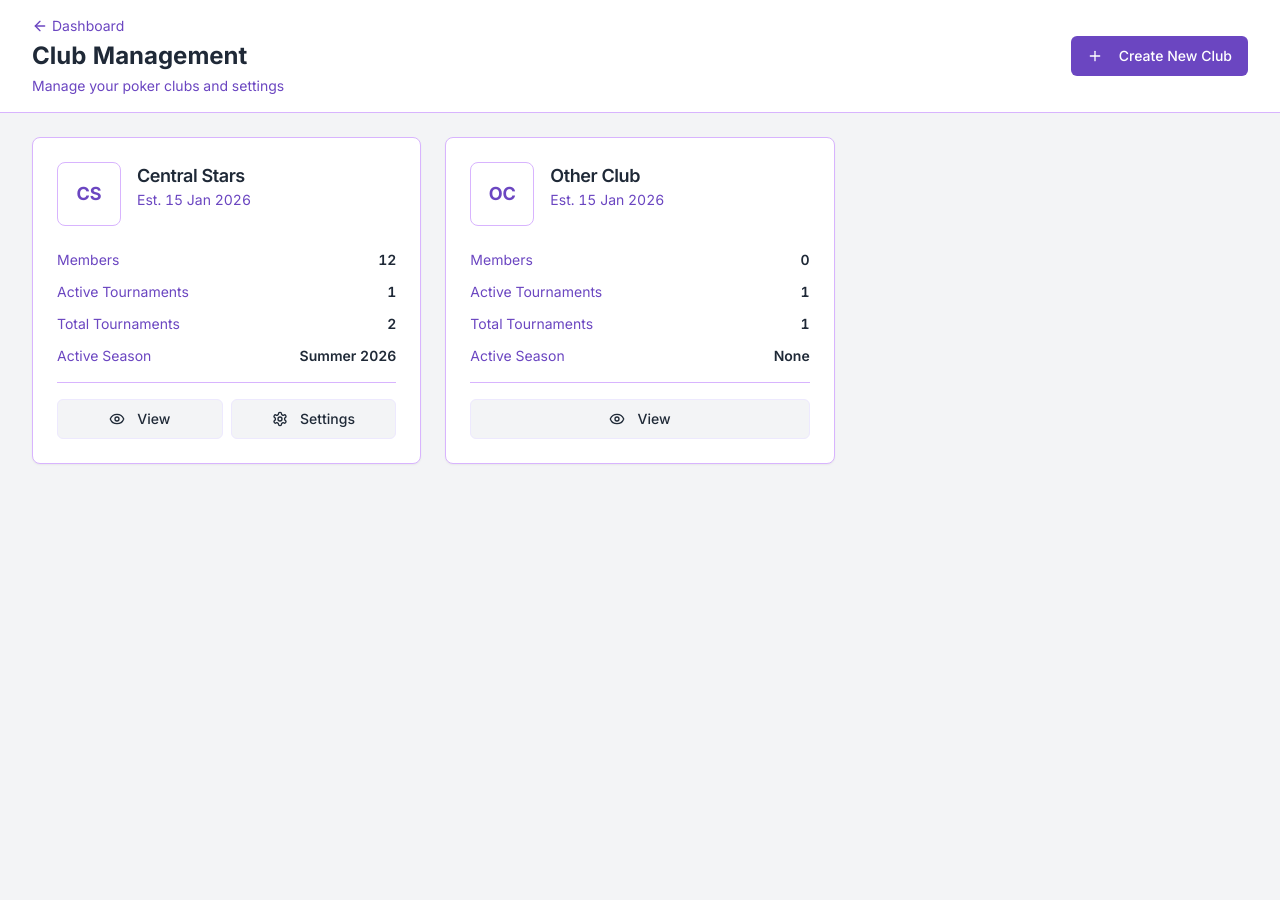
Test: Create New Club › creates the club from its name and the slug made from it, then lists it
Click the button with test id "create-club-button" at (1159, 56), box top-left (1071, 36), bottom-right (1248, 76)
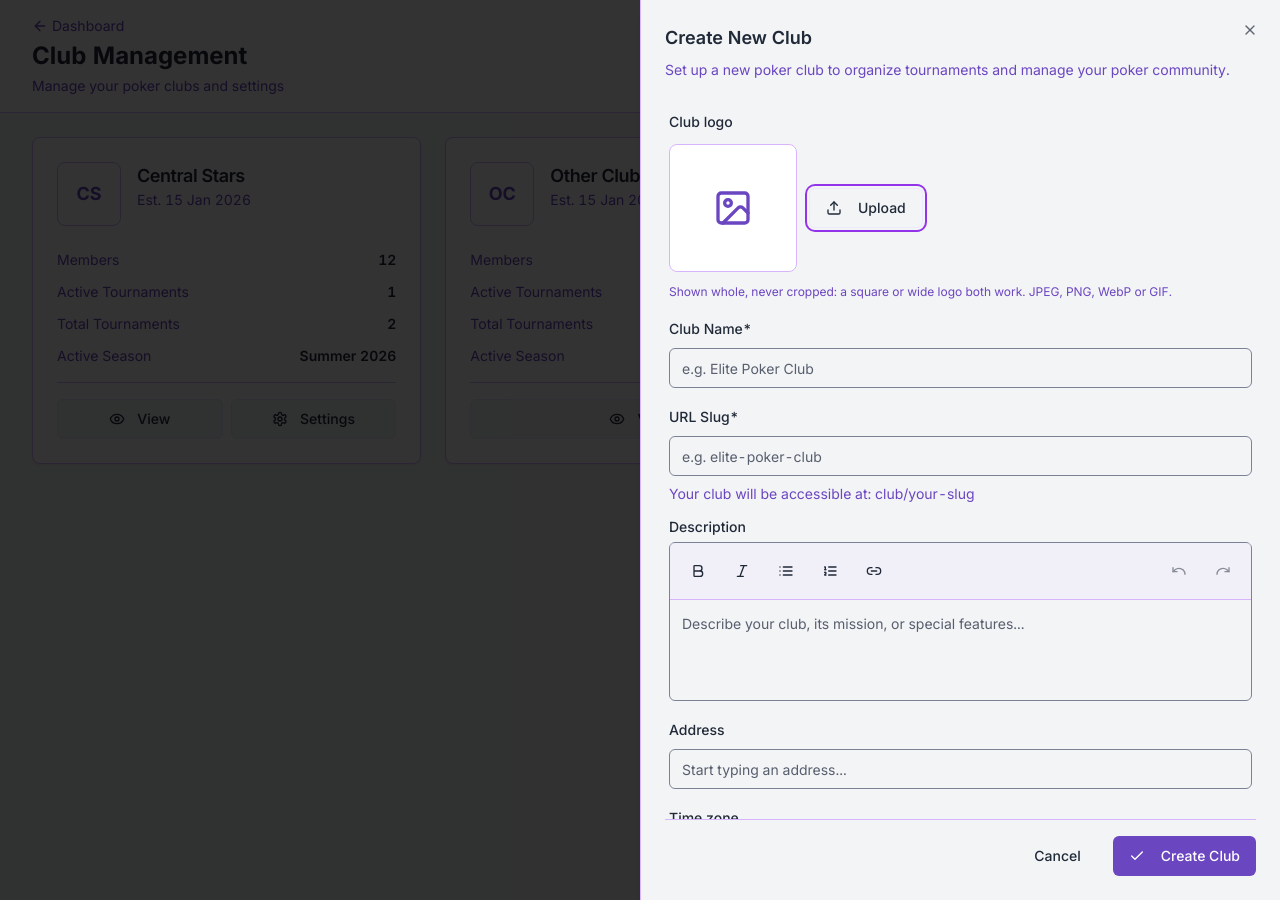
Type "Club 2020" into the field with test id "club-name" at (960, 368), box top-left (669, 348), bottom-right (1252, 388)
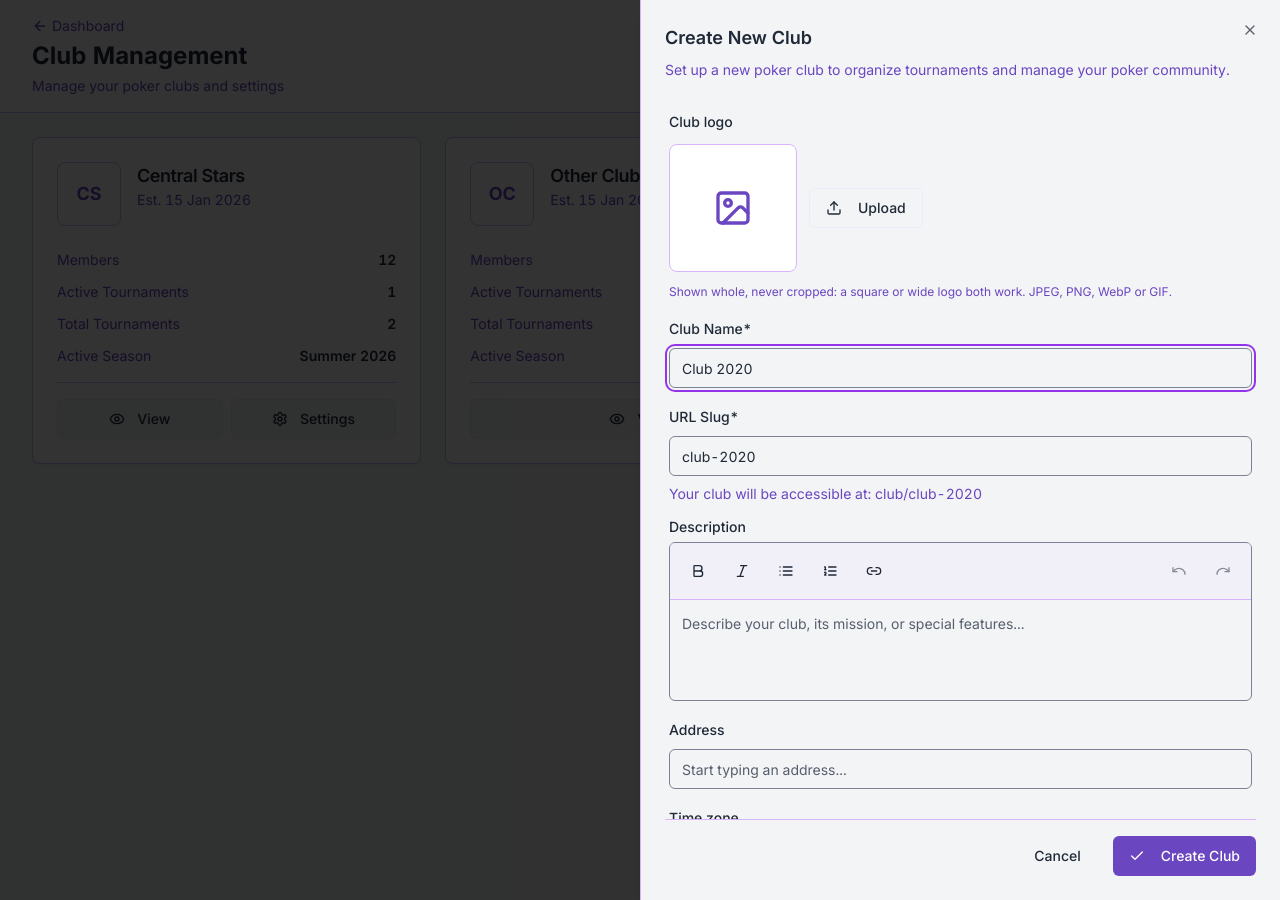
Expected: the field labelled "URL Slug*" holds "club-2020", top-left (669, 436), bottom-right (1252, 476)
Click the button with test id "create-club-final" at (1184, 856), box top-left (1113, 836), bottom-right (1256, 876)
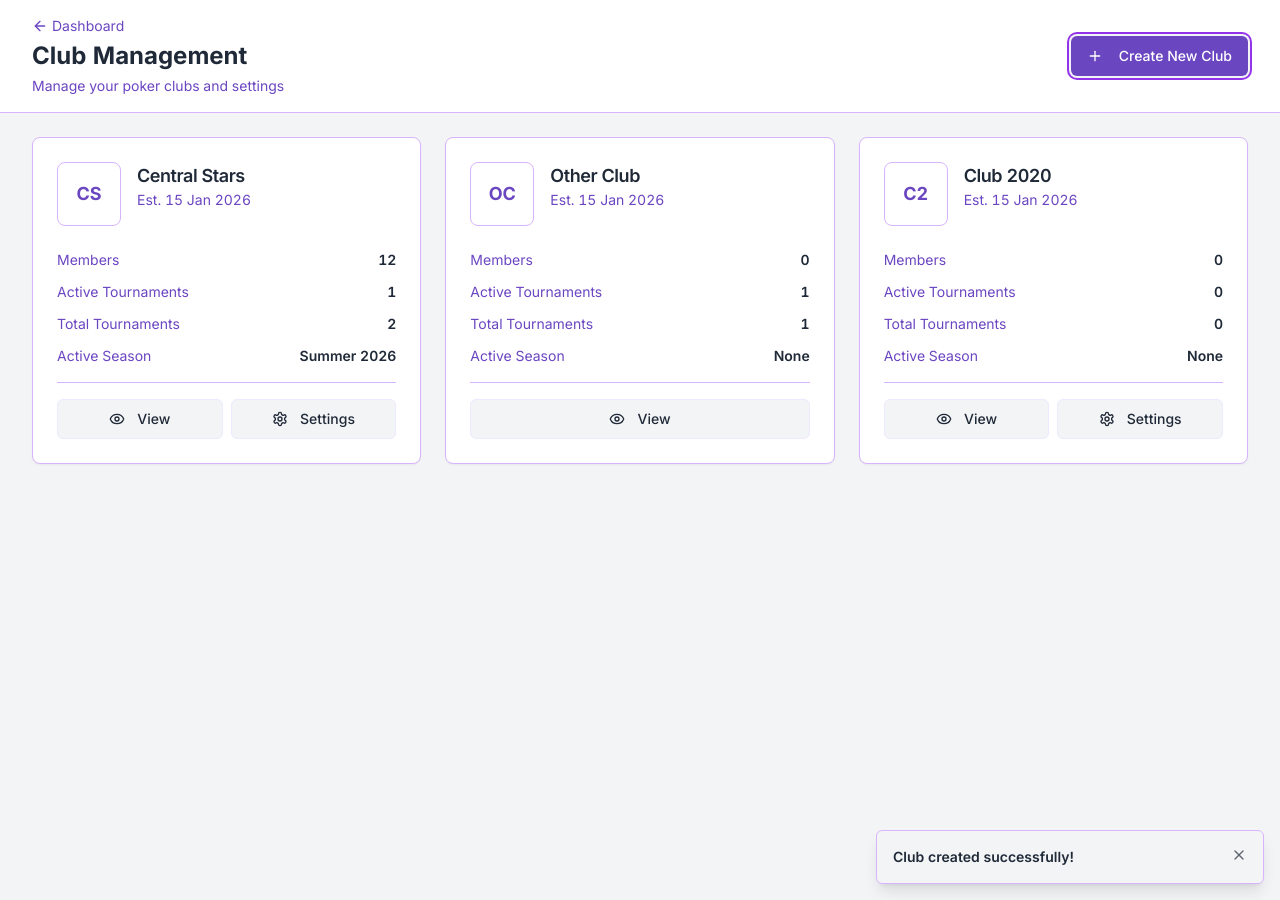
Expected: the text "Club created successfully!" is shown, top-left (893, 848), bottom-right (1074, 865)
